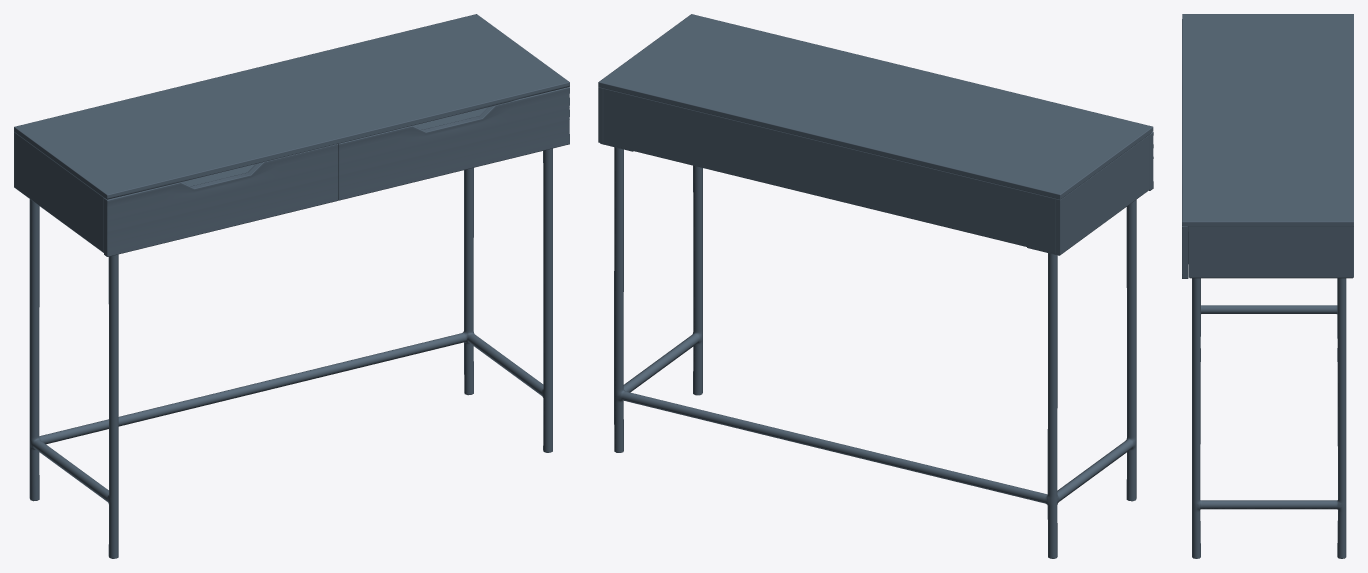
File: alexlagi.fbx
The picture shows the model from 3 angles, left to right: view 1: azimuth 30°, elevation 25°; view 2: azimuth 150°, elevation 25°; view 3: azimuth 270°, elevation 25°; orthographic projection. The views are drawn at different scales.
Visible parts, largest first — view 1: desk, box-002, box-002.001; view 2: desk; view 3: desk, box-002.001.
Boxes of the visible parts, x1,y1,x2,y2 form: desk: [14, 14, 569, 558]; box-002: [104, 144, 338, 256]; box-002.001: [338, 87, 569, 200]; desk: [598, 14, 1153, 558]; desk: [1182, 14, 1353, 558]; box-002.001: [1182, 123, 1188, 278].
Size of the model in its own units: 144 by 110 by 50.28.
